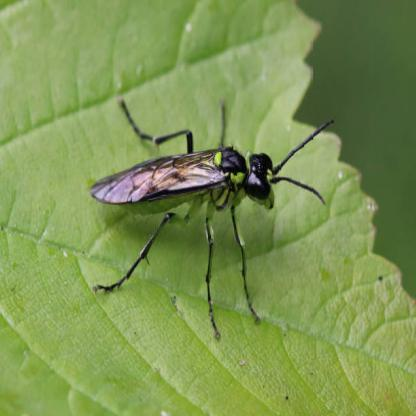sawfly: (84, 93, 338, 340)
